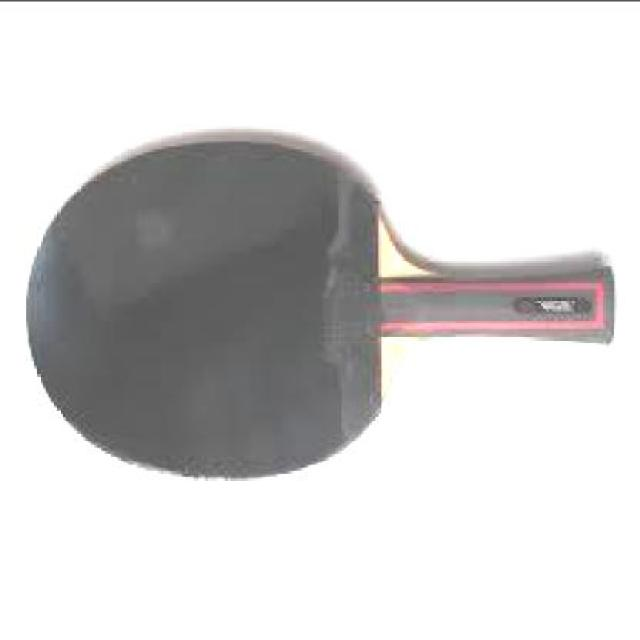table_tennis_racket: (22, 137, 422, 481)
